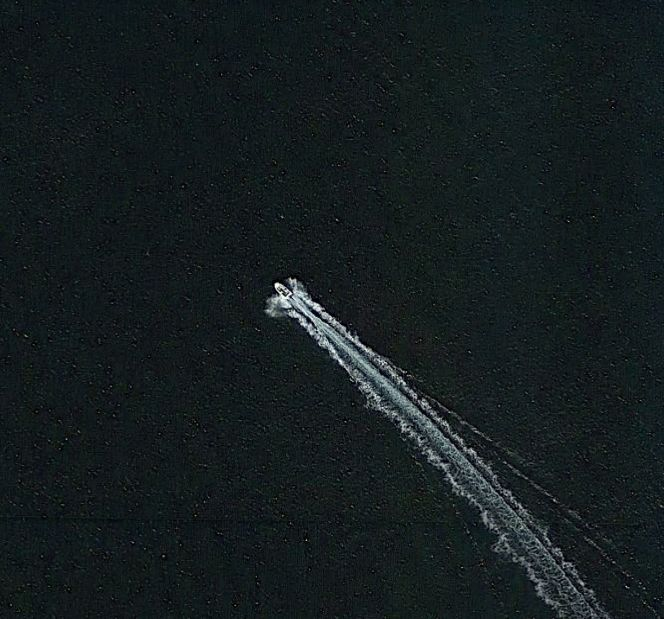boat: (263, 271, 303, 310)
